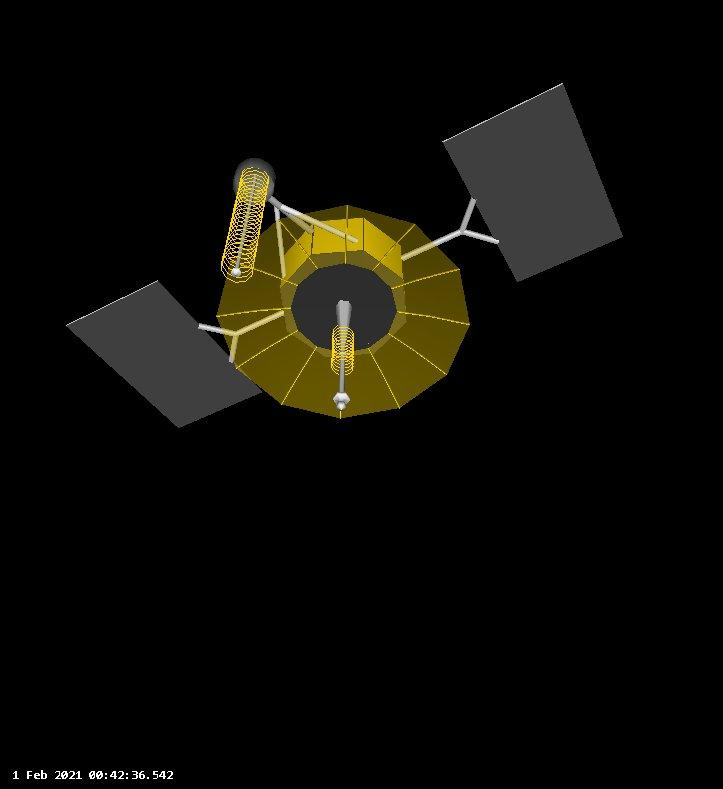antenna: (216, 203, 472, 422), (217, 155, 276, 286)
solar: (440, 80, 627, 285), (64, 276, 265, 431)
